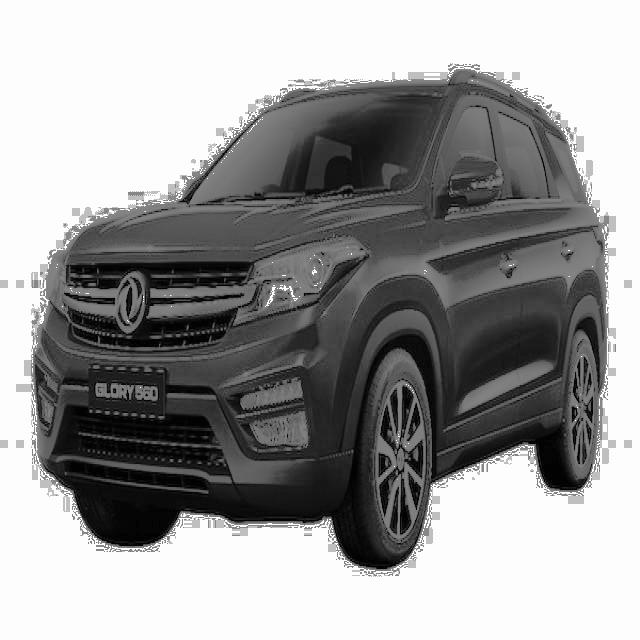Car: (30, 107, 504, 585)
